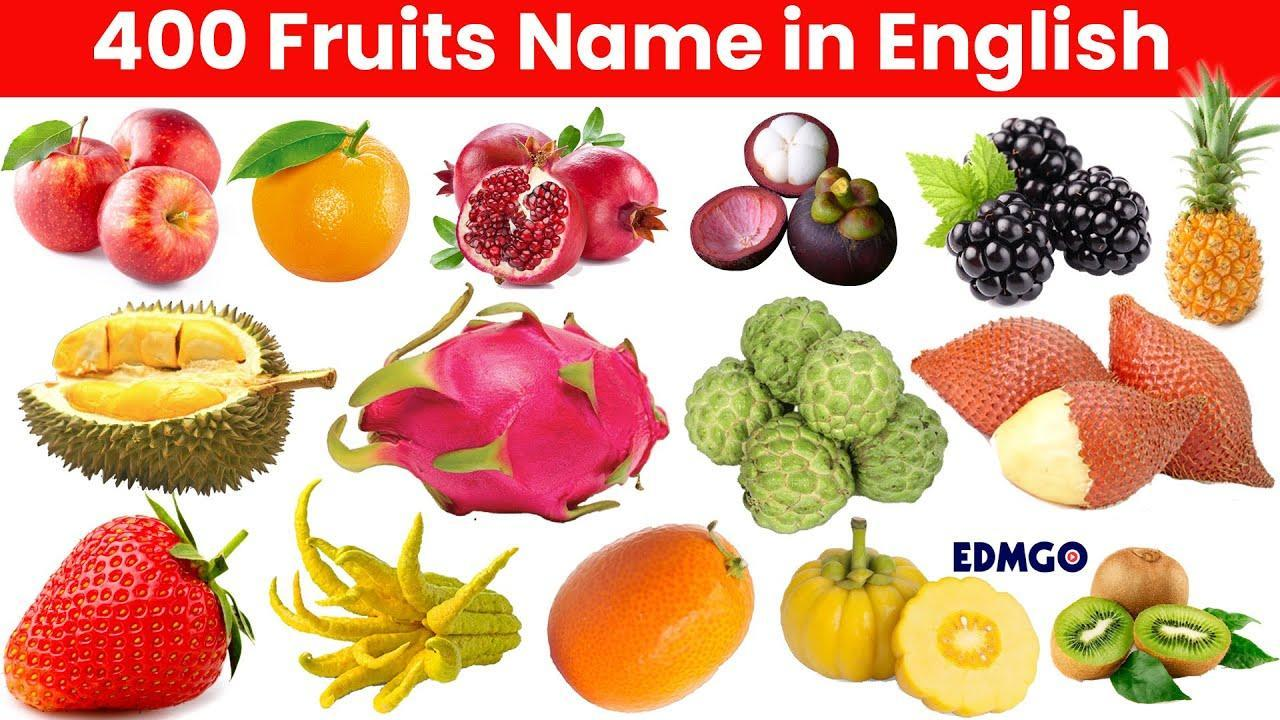apple: (99, 165, 222, 289), (12, 138, 128, 254), (112, 109, 221, 198)
